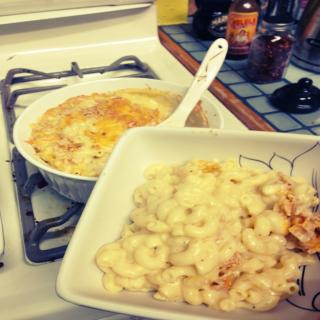Pasta: (92, 156, 320, 313)
